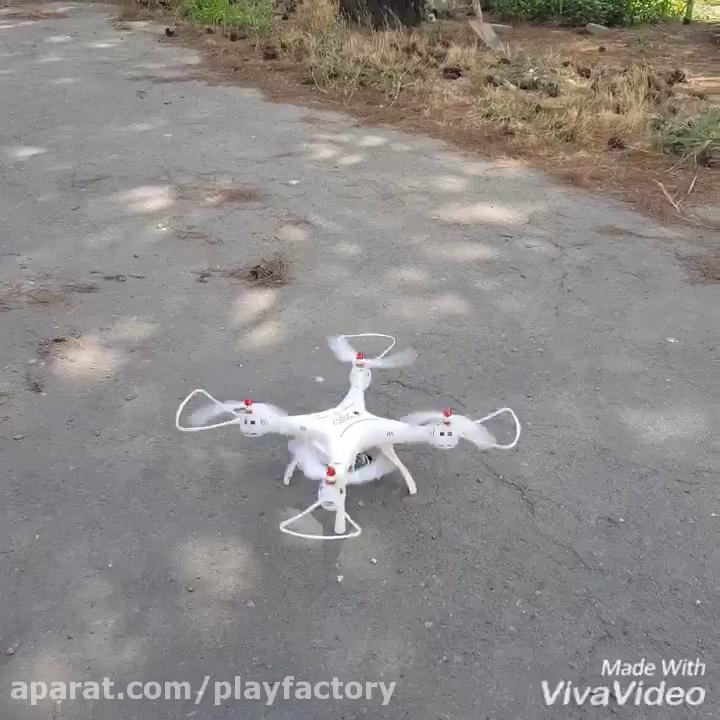drone: (166, 328, 524, 545)
